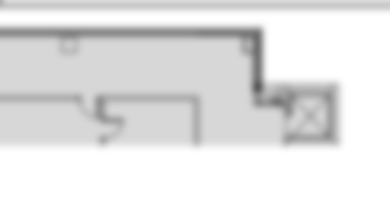door: (78, 97, 101, 120), (100, 119, 126, 139)
